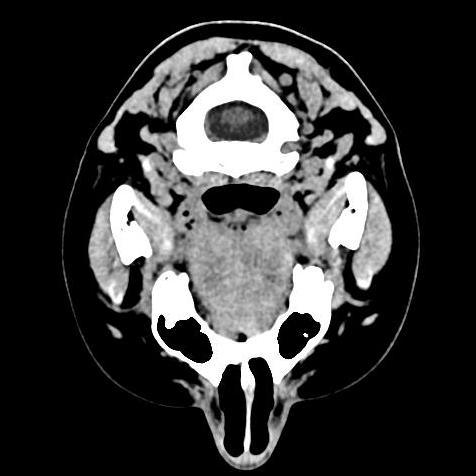Normal_Brain: (42, 15, 472, 476)
